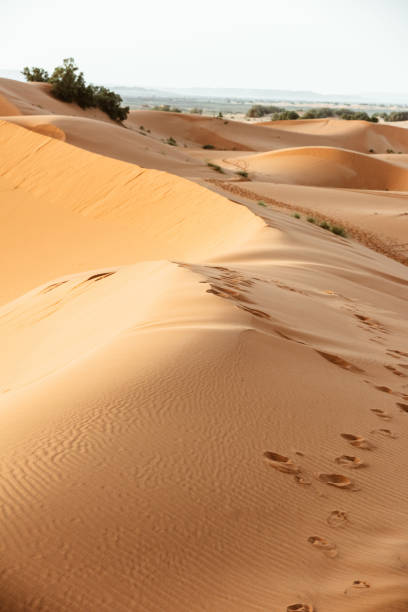animal_footprint: (316, 350, 363, 373), (264, 451, 299, 473), (317, 473, 359, 490), (308, 536, 337, 557), (340, 433, 373, 449), (335, 454, 366, 468), (326, 510, 349, 528), (344, 580, 370, 594), (370, 428, 397, 438), (384, 364, 406, 376), (370, 408, 391, 420), (286, 603, 314, 611), (295, 470, 311, 484), (387, 349, 407, 357), (375, 385, 392, 393), (396, 402, 407, 412)
